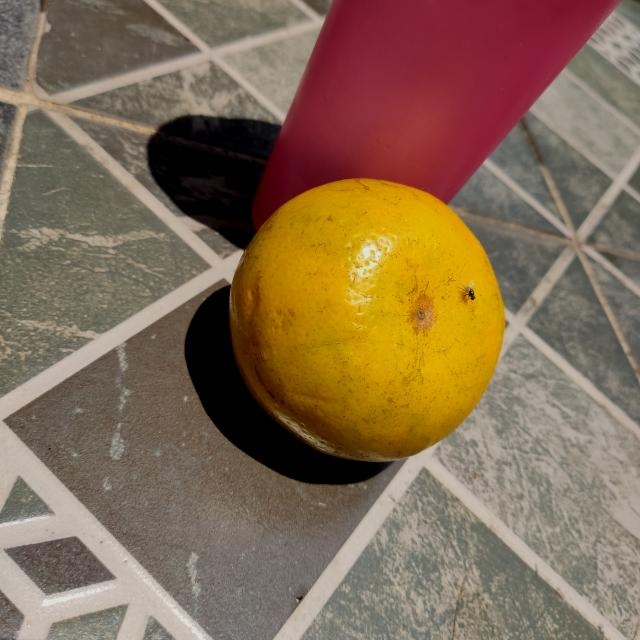agrume: (227, 177, 505, 466)
